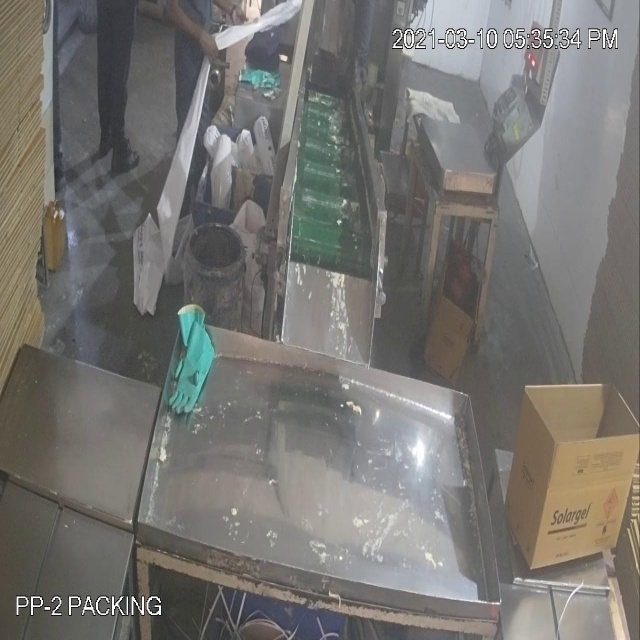Sin_guantes: (155, 1, 227, 77)
